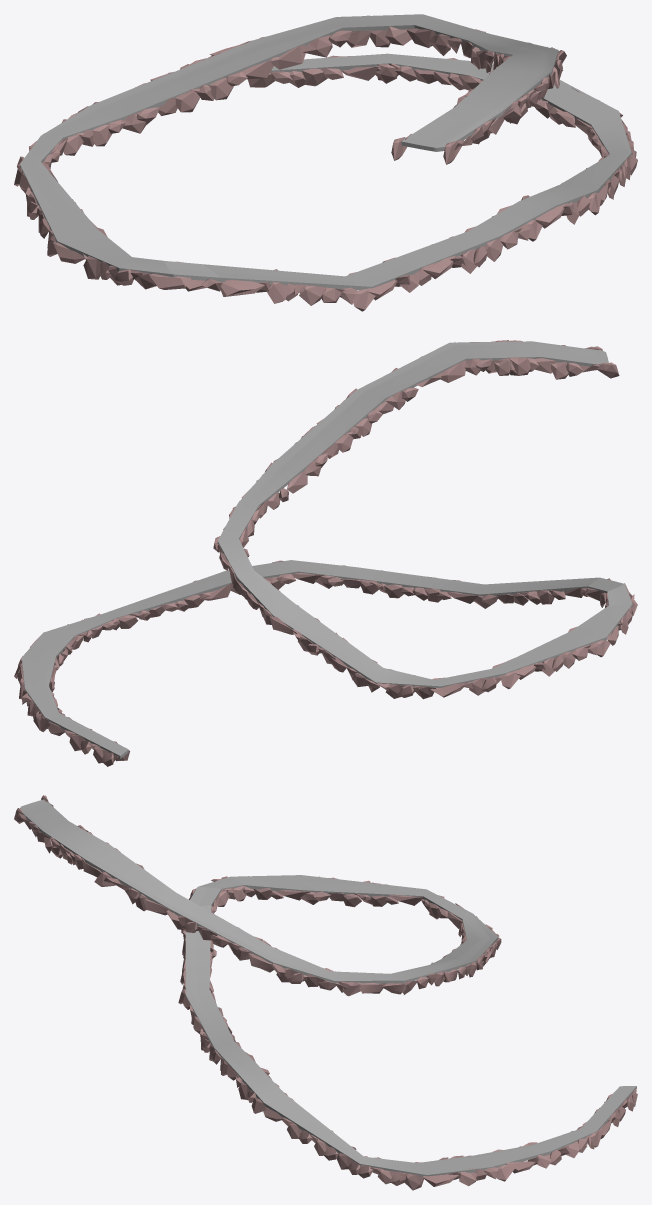
The model's file is LEVEL4.fbx.
The picture shows the model from 3 angles, top to bottom: view 1: azimuth 30°, elevation 25°; view 2: azimuth 150°, elevation 25°; view 3: azimuth 270°, elevation 25°; orthographic projection. The views are drawn at different scales.
Visible parts, largest first — view 1: polySurface462; view 2: polySurface462; view 3: polySurface462.
Boxes of the visible parts, x1,y1,x2,y2 form: polySurface462: [14, 14, 637, 311]; polySurface462: [14, 340, 637, 766]; polySurface462: [14, 795, 637, 1190].
Size of the model in its own units: 1938 by 855 by 2152.
